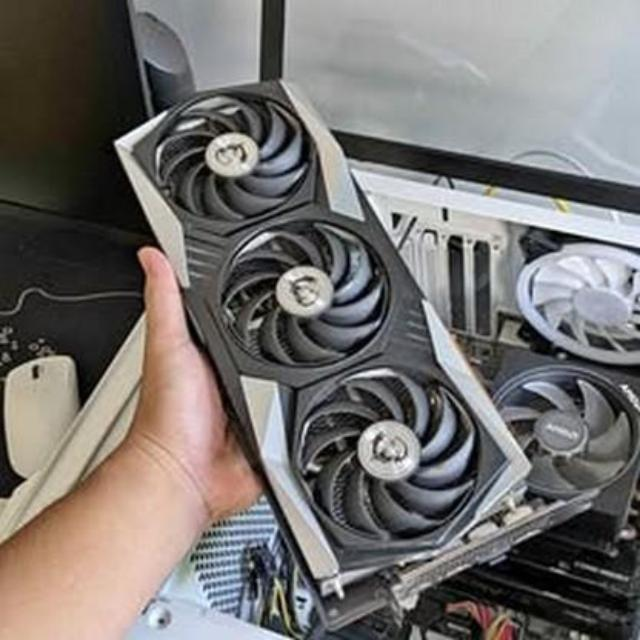GPU: (111, 66, 540, 624)
